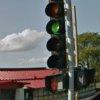traffic lights: (44, 1, 69, 76)
